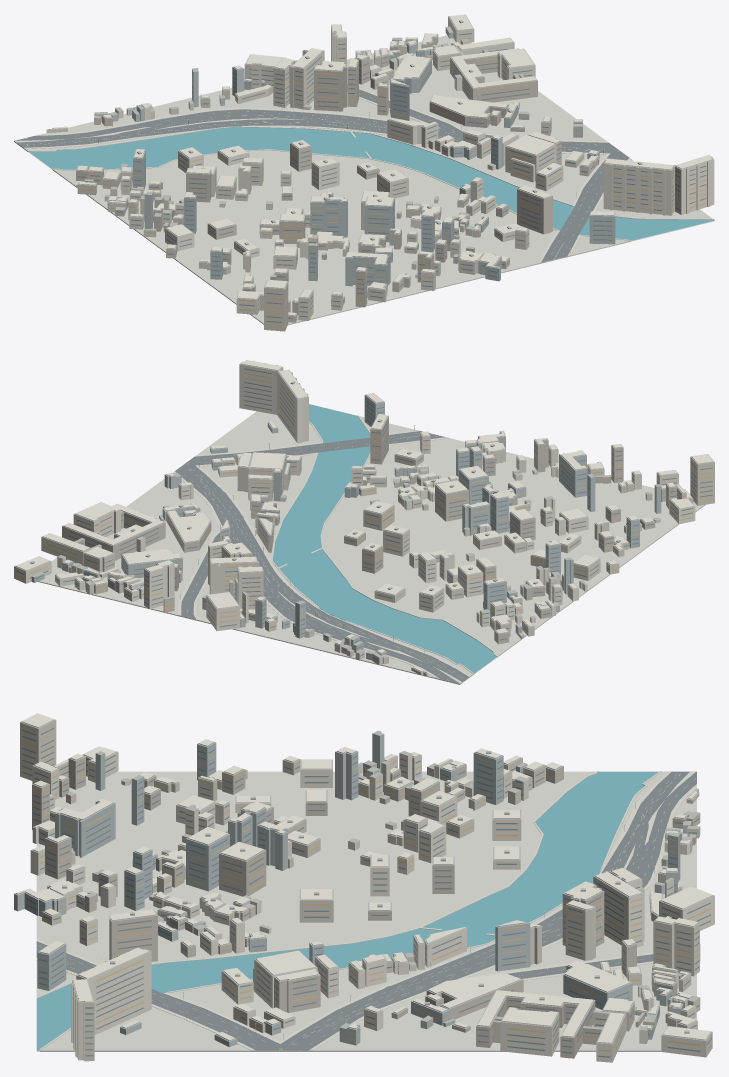
3 renders of one model, top to bottom at view 1: azimuth 30°, elevation 25°; view 2: azimuth 150°, elevation 25°; view 3: azimuth 270°, elevation 25°, orthographic. The views are drawn at different scales.
Parts seen in each view (by area): view 1: city; view 2: city; view 3: city.
Part boxes in pixels (x1,y1,x2,y2): city: (14,14,714,331); city: (14,360,714,684); city: (14,713,714,1062).
Bounding box in the file's own units: 532 × 51.45 × 531.
